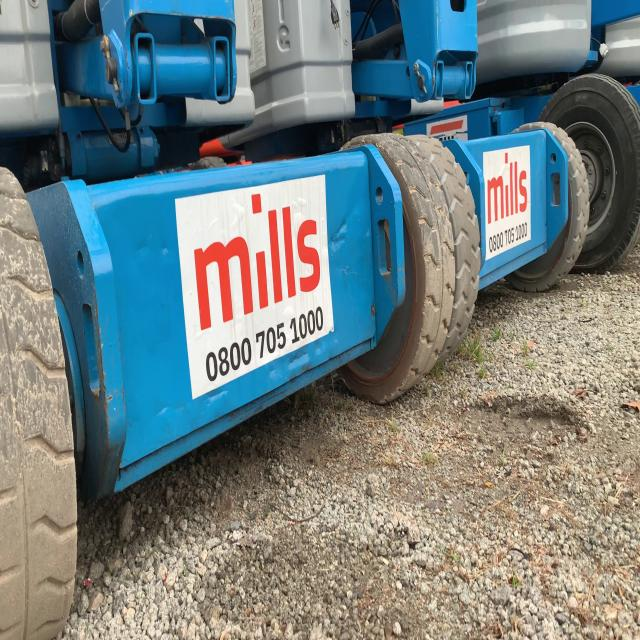Adesivos: (174, 171, 341, 405), (482, 143, 533, 262)
